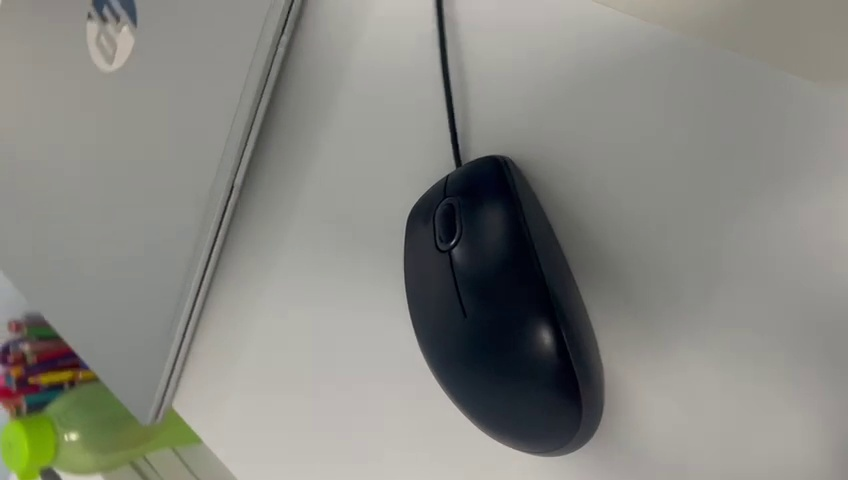objeto: (373, 144, 640, 468)
